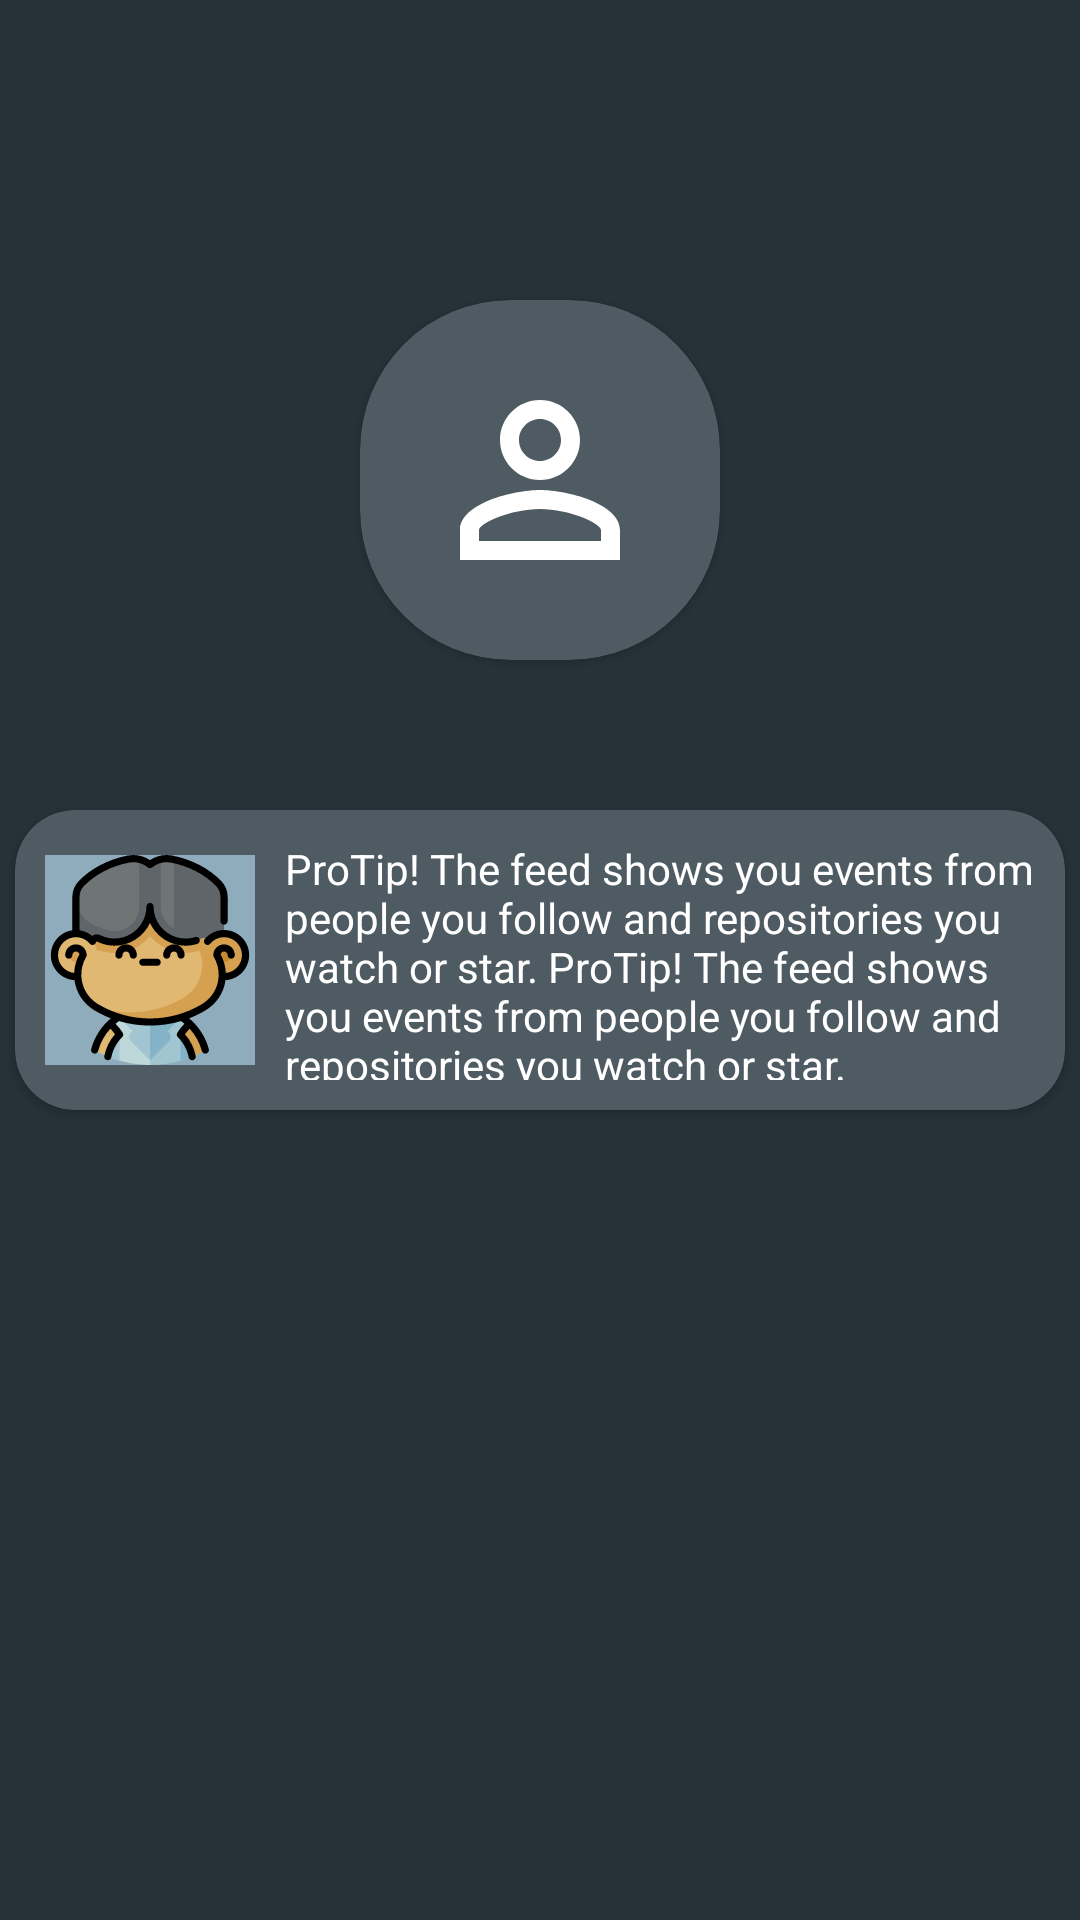

Locate icon controls on the screen. Image size 1080×1920, boxes as (x1, y1, x2, y2).
person: (460, 400, 620, 560)
